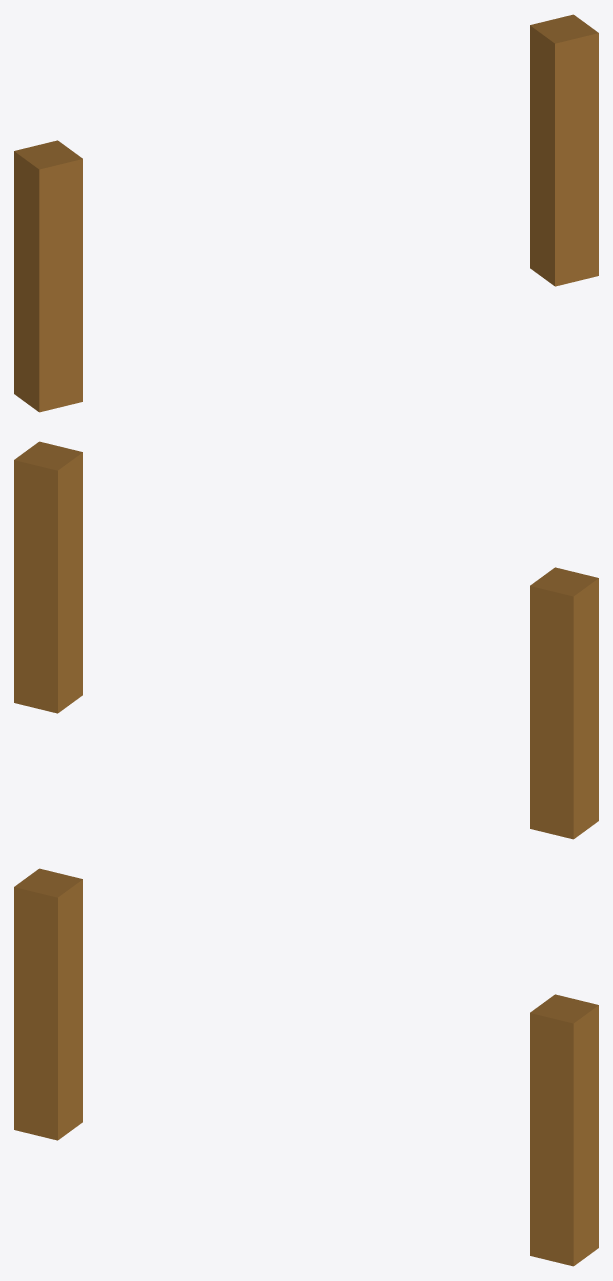
Rendered from SM_Tendedero_v4_Vacio_LOD1.fbx.
3 views of the same model, one above another, from view 1: azimuth 30°, elevation 25°; view 2: azimuth 150°, elevation 25°; view 3: azimuth 330°, elevation 25° (orthographic).
Visible parts, largest first — view 1: SM_vida_fuerte_v9_LOD1; view 2: SM_vida_fuerte_v9_LOD1; view 3: SM_vida_fuerte_v9_LOD1.
Boxes of the visible parts, <box> form: SM_vida_fuerte_v9_LOD1: <box>14,14,598,412</box>; SM_vida_fuerte_v9_LOD1: <box>14,441,598,839</box>; SM_vida_fuerte_v9_LOD1: <box>14,868,598,1266</box>.
Bounding box in the file's own units: 4.34 × 1.8 × 0.34.
